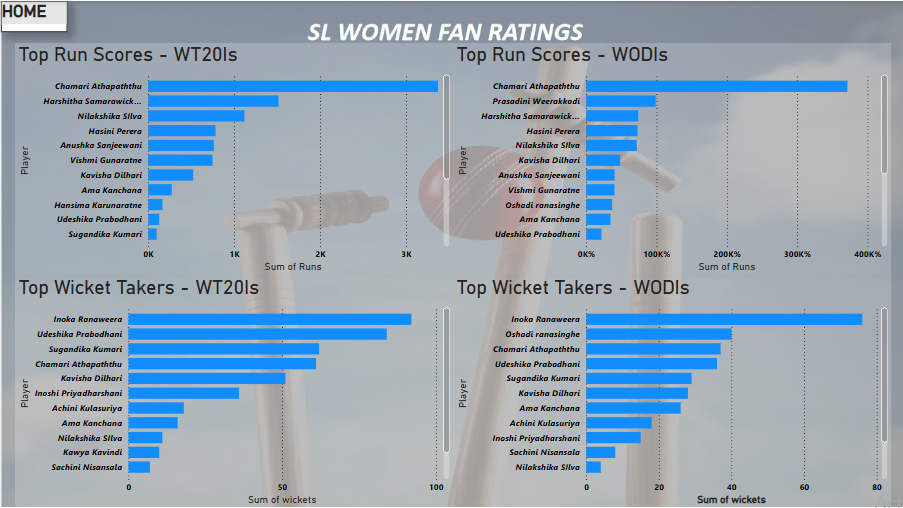

The dashboard page shown, as its layout file describes it:
{"tool":"powerbi","page":{"name":"Top Players","canvas":[1280,720],"ordinal":3},"visuals":[{"type":"clusteredBarChart","title":"Top Wicket Takers - WT20Is","fields":{"Category":["WT20Is.Player"],"Y":["Sum(WT20Is.wickets)"]},"box":[19.7,389.3,621.1,330.2],"z":0},{"type":"clusteredBarChart","title":"Top Wicket Takers - WODIs","fields":{"Category":["WODIs.Player"],"Y":["Sum(WODIs.wickets)"]},"box":[640.8,389.3,621.1,330.2],"z":0,"group":"g1"},{"type":"clusteredBarChart","title":"Top Run Scores - WT20Is","fields":{"Category":["WT20Is.Player"],"Y":["Sum(WT20Is.Runs)"]},"box":[19.7,59.1,621.1,330.2],"z":1000},{"type":"clusteredBarChart","title":"Top Run Scores - WODIs","fields":{"Category":["WODIs.Player"],"Y":["Sum(WODIs.Runs)"]},"box":[640.8,59.1,621.1,330.2],"z":1000,"group":"g1"},{"type":"group","id":"g1","title":"Group 1","box":[640.8,59.1,621.1,660.4],"z":2000},{"type":"actionButton","title":"HOME","box":[0,0,93.9,43.9],"z":3000}]}

Visuals, with their boxes in screenshot pixels (x1, y1, x2, y2), scaled from the page's 1280x720 canvas onto the 903x508 screenshot:
"Top Wicket Takers - WT20Is" clusteredBarChart: Rect(14, 275, 452, 507)
"Top Wicket Takers - WODIs" clusteredBarChart: Rect(452, 275, 890, 507)
"Top Run Scores - WT20Is" clusteredBarChart: Rect(14, 42, 452, 275)
"Top Run Scores - WODIs" clusteredBarChart: Rect(452, 42, 890, 275)
"Group 1" group: Rect(452, 42, 890, 507)
"HOME" actionButton: Rect(0, 0, 66, 31)
